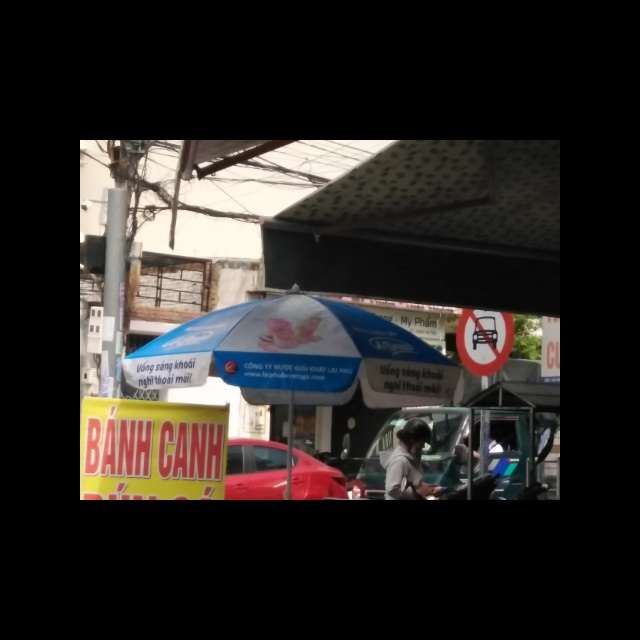Cấm xe ô tô: (452, 307, 515, 376)
